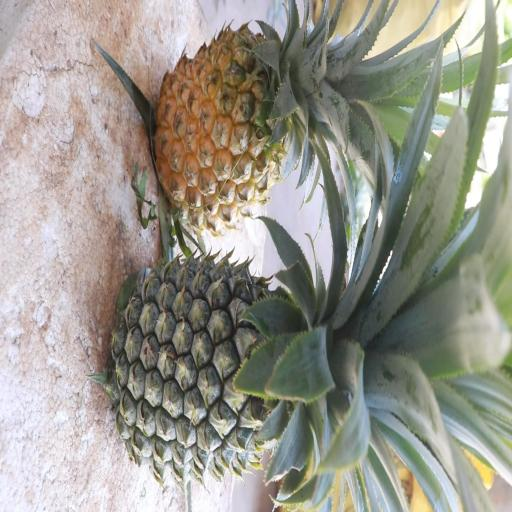Pineapple - v8 v1: (152, 10, 420, 226)
